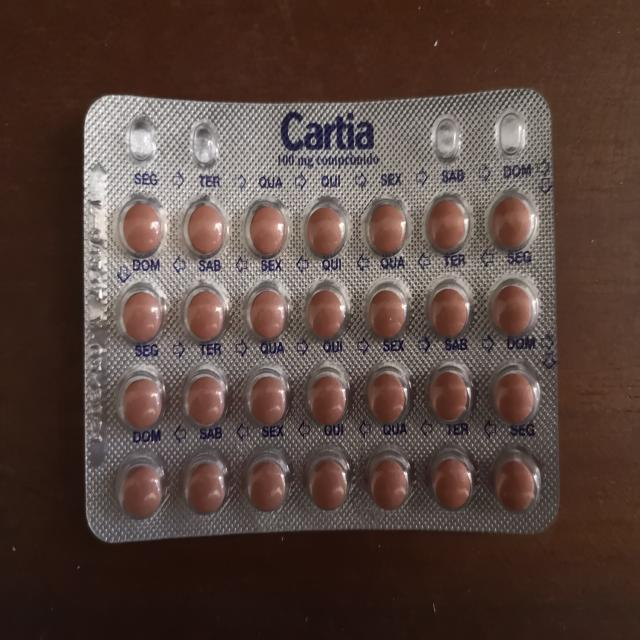Pill: (481, 183, 543, 261), (106, 457, 171, 521), (421, 185, 475, 259), (489, 450, 546, 520), (237, 364, 294, 434), (357, 276, 412, 348), (237, 190, 293, 260), (298, 360, 354, 430), (175, 366, 231, 436), (487, 367, 546, 433), (300, 190, 352, 264), (364, 444, 418, 514), (302, 446, 356, 516), (240, 278, 294, 348), (362, 362, 414, 432), (181, 278, 233, 348), (299, 280, 351, 350), (114, 281, 168, 348), (422, 364, 476, 431), (180, 452, 233, 520), (423, 446, 475, 515), (491, 276, 542, 346), (178, 193, 228, 264), (240, 450, 294, 515), (363, 190, 410, 262), (115, 194, 167, 259), (423, 281, 474, 344), (116, 370, 166, 434)
